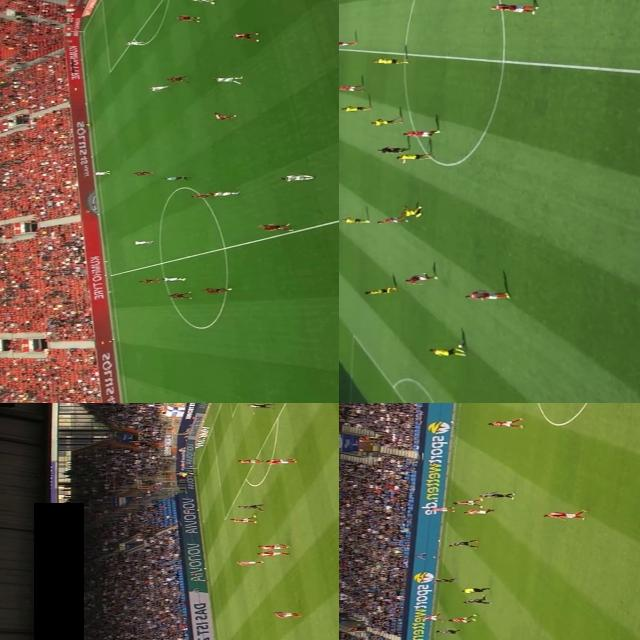ball: (453, 344, 465, 349), (208, 1, 216, 5)
player: (477, 489, 516, 502), (484, 419, 522, 432), (397, 129, 443, 139), (542, 512, 586, 522), (426, 347, 468, 357), (482, 4, 534, 12), (230, 31, 264, 43), (254, 222, 294, 232), (368, 56, 408, 66), (441, 616, 479, 625), (446, 540, 480, 550), (465, 507, 499, 516), (452, 498, 486, 507), (359, 286, 397, 294), (372, 217, 410, 225), (211, 76, 241, 86), (459, 292, 509, 298), (370, 118, 400, 128), (402, 274, 438, 282), (276, 175, 316, 182), (256, 542, 282, 552), (430, 506, 455, 516), (159, 276, 189, 284), (270, 610, 300, 618), (226, 516, 256, 524), (434, 628, 464, 636), (209, 190, 238, 198), (172, 15, 200, 23), (462, 598, 490, 606), (262, 458, 298, 464), (130, 238, 156, 246), (342, 217, 368, 225), (200, 287, 234, 293), (393, 154, 427, 160), (400, 207, 422, 216), (416, 615, 444, 622), (256, 550, 288, 556), (230, 560, 262, 566), (339, 106, 370, 112), (190, 191, 213, 199), (430, 578, 456, 585), (339, 85, 361, 93), (136, 278, 164, 284), (166, 294, 192, 300), (237, 504, 263, 510), (211, 114, 235, 120), (124, 40, 148, 46), (163, 76, 185, 82), (148, 85, 170, 91), (130, 171, 152, 177), (246, 404, 272, 409), (236, 458, 260, 463), (187, 0, 216, 4), (90, 171, 112, 176), (339, 41, 352, 46)
